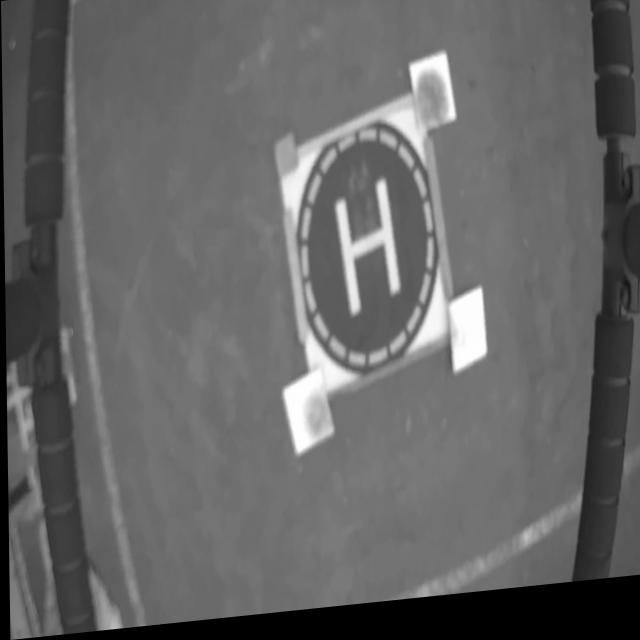Helipad: (333, 186, 399, 324)
